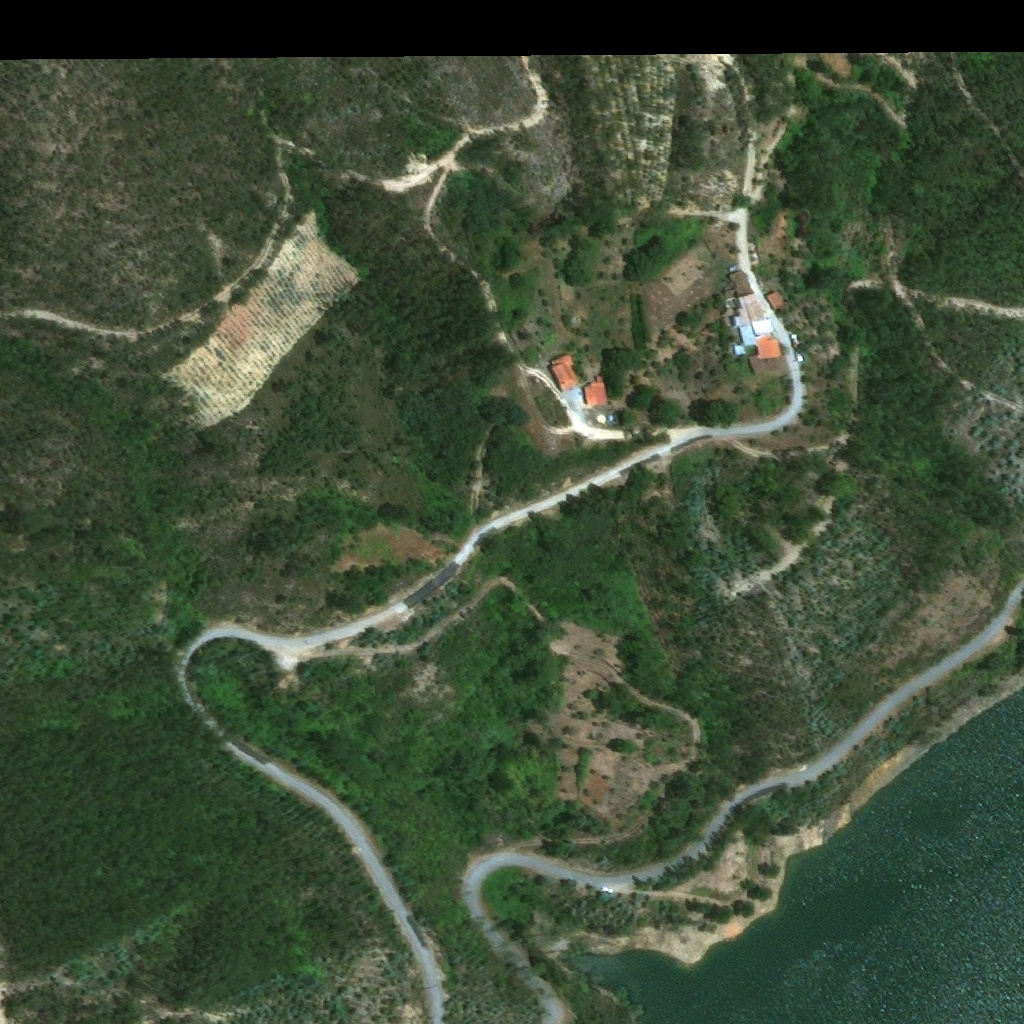0 no-damage: (724, 270, 758, 306), (550, 353, 581, 392), (738, 302, 775, 334), (584, 376, 611, 406), (750, 355, 787, 375), (756, 333, 782, 358), (766, 291, 787, 310), (739, 323, 757, 345), (735, 346, 747, 355), (730, 266, 737, 273)
